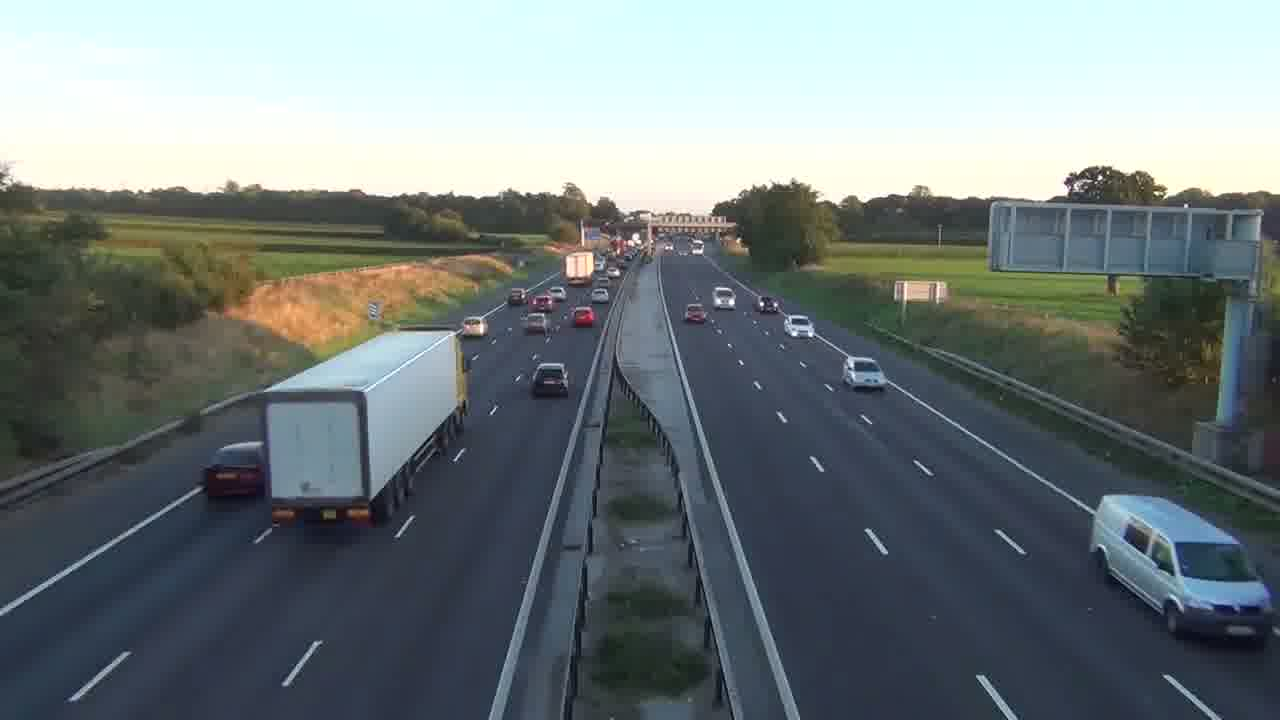car: (1088, 493, 1274, 646), (841, 356, 885, 390), (531, 362, 570, 398), (712, 286, 736, 309), (571, 306, 596, 327), (685, 304, 707, 323)
truck: (263, 327, 468, 528), (1088, 493, 1274, 646)
